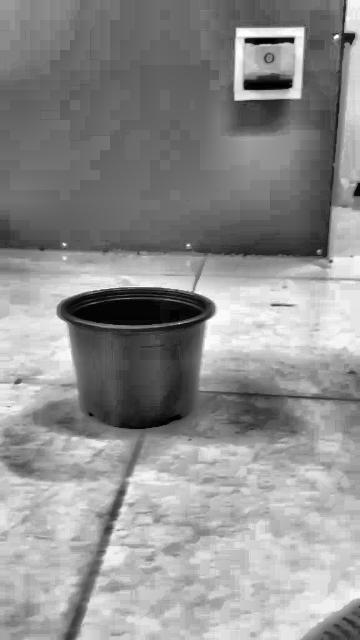pot: (59, 288, 213, 428)
